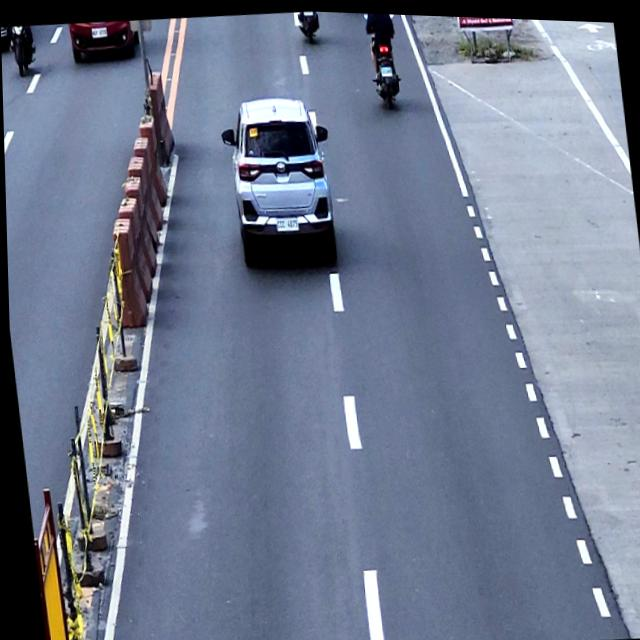Car: (215, 88, 342, 270), (68, 17, 141, 67)
License-Plate: (273, 213, 299, 231), (90, 24, 107, 38), (380, 63, 391, 74), (302, 9, 312, 13)
Motorcycle: (365, 25, 403, 108), (6, 24, 38, 77), (296, 9, 321, 41)
